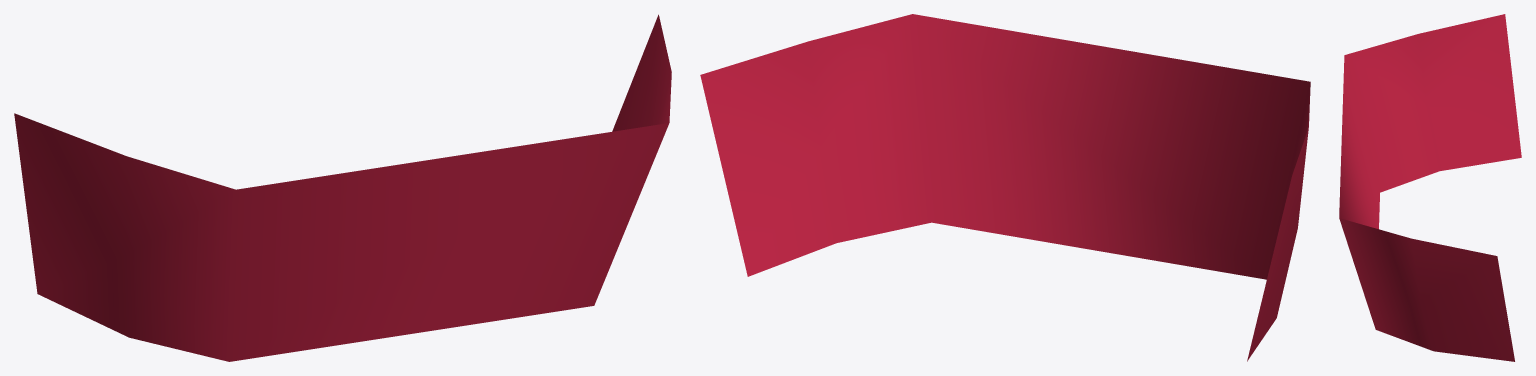
3 renders of one model, left to right at view 1: azimuth 30°, elevation 25°; view 2: azimuth 150°, elevation 25°; view 3: azimuth 270°, elevation 25°, orthographic. The views are drawn at different scales.
Visible parts, largest first — view 1: ef_415; view 2: ef_415; view 3: ef_415.
Boxes of the visible parts, x1,y1,x2,y2 form: ef_415: (14,14,671,361); ef_415: (700,14,1310,361); ef_415: (1339,14,1521,361).
Size of the model in its own units: 0.9973 by 0.3632 by 0.3714.
1 material, 1 textured.
